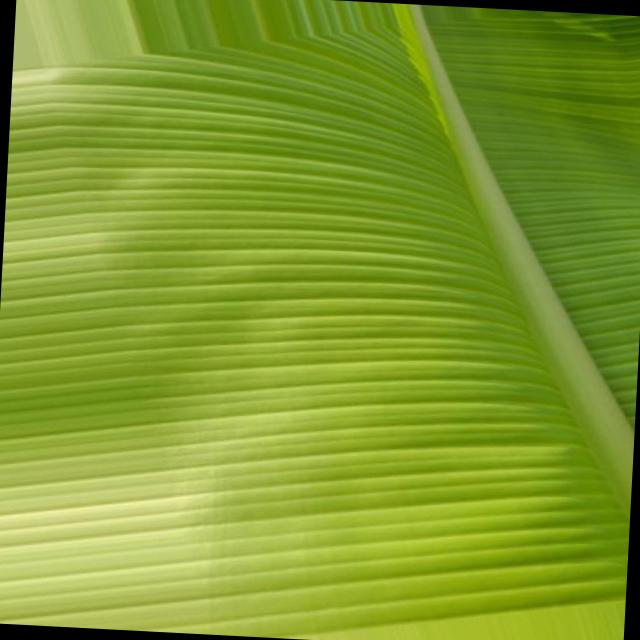Banana_Healthy: (5, 4, 593, 640)
